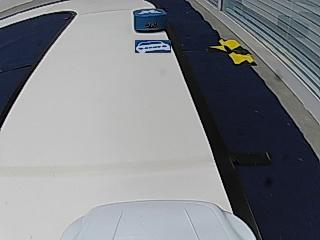prop: (134, 9, 168, 34)
